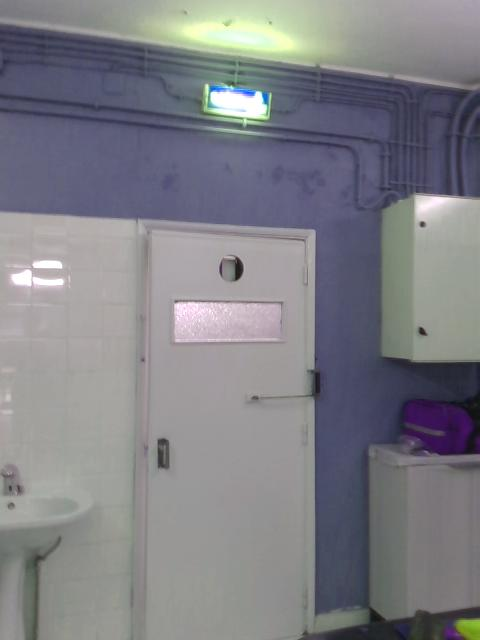closed_door: (136, 227, 315, 638)
